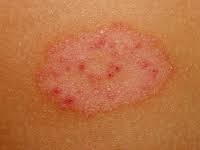herpes: (47, 9, 177, 127)
